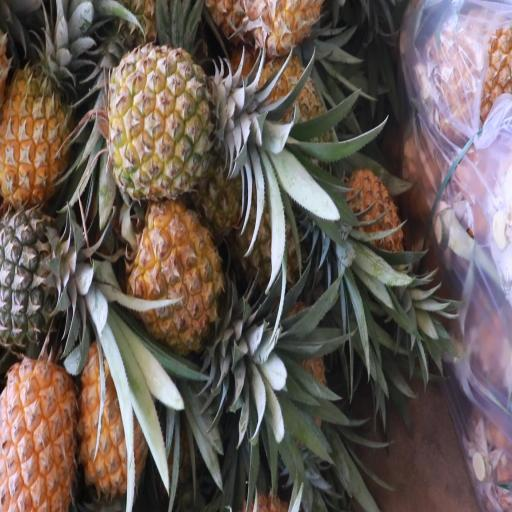Pineapple - v8 v1: (104, 43, 301, 205), (129, 186, 234, 369), (0, 27, 90, 207), (0, 335, 82, 512), (77, 339, 149, 502)
